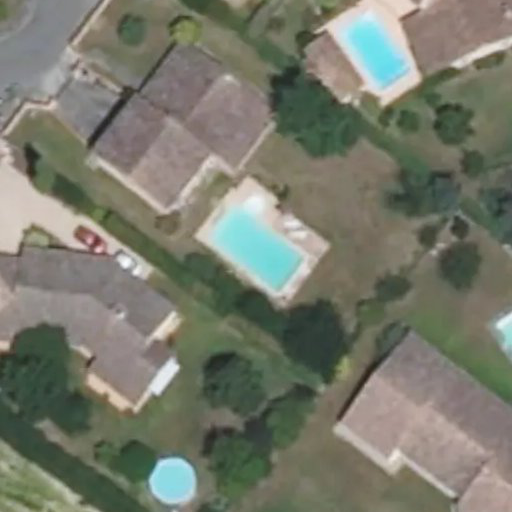pool: (212, 210, 304, 288), (347, 14, 409, 90), (149, 458, 199, 504)
